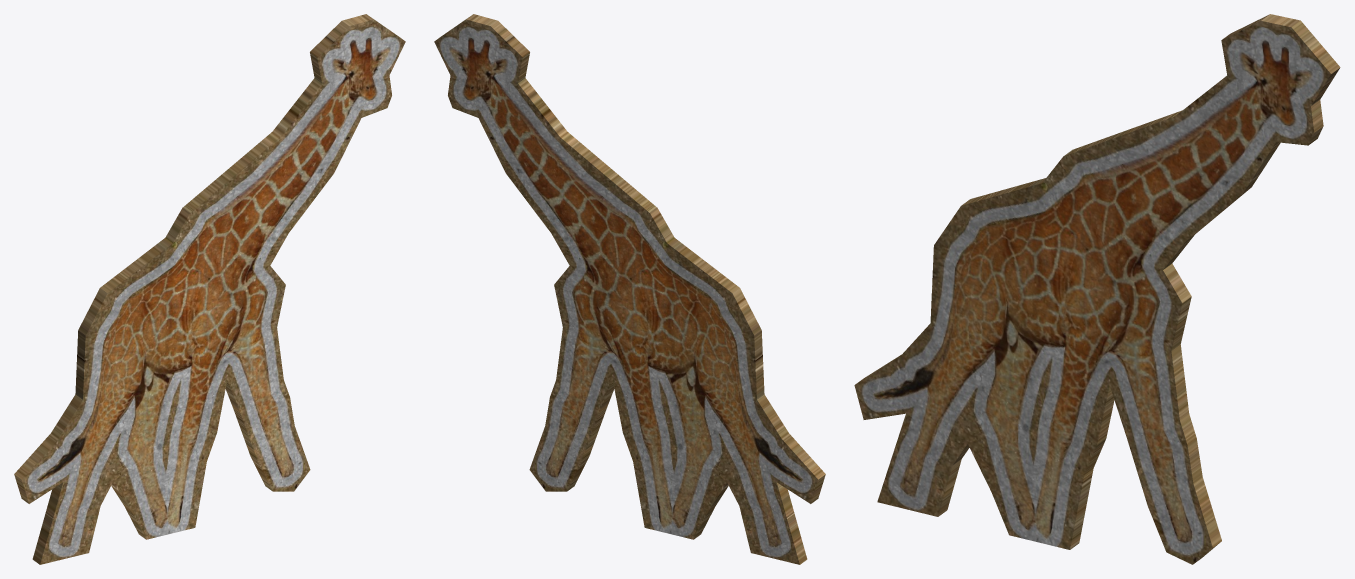
Rendered from Giraffe.fbx.
3 views of the same model, side by side, from view 1: azimuth 30°, elevation 25°; view 2: azimuth 150°, elevation 25°; view 3: azimuth 330°, elevation 25° (orthographic). The views are drawn at different scales.
Visible parts, largest first — view 1: uQ6rQhr; view 2: uQ6rQhr; view 3: uQ6rQhr.
Boxes of the visible parts, left/top/right/bottom form: uQ6rQhr: left=14, top=14, right=405, bottom=564; uQ6rQhr: left=434, top=14, right=825, bottom=564; uQ6rQhr: left=854, top=14, right=1340, bottom=564.
Bounding box in the file's own units: 183 × 6.21 × 212.
